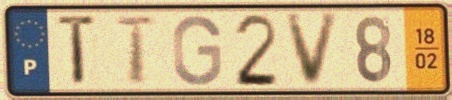2: (231, 11, 280, 88)
8: (353, 14, 394, 86)
G: (170, 13, 224, 88)
T: (112, 15, 162, 87), (55, 12, 101, 90)
V: (282, 10, 344, 90)
